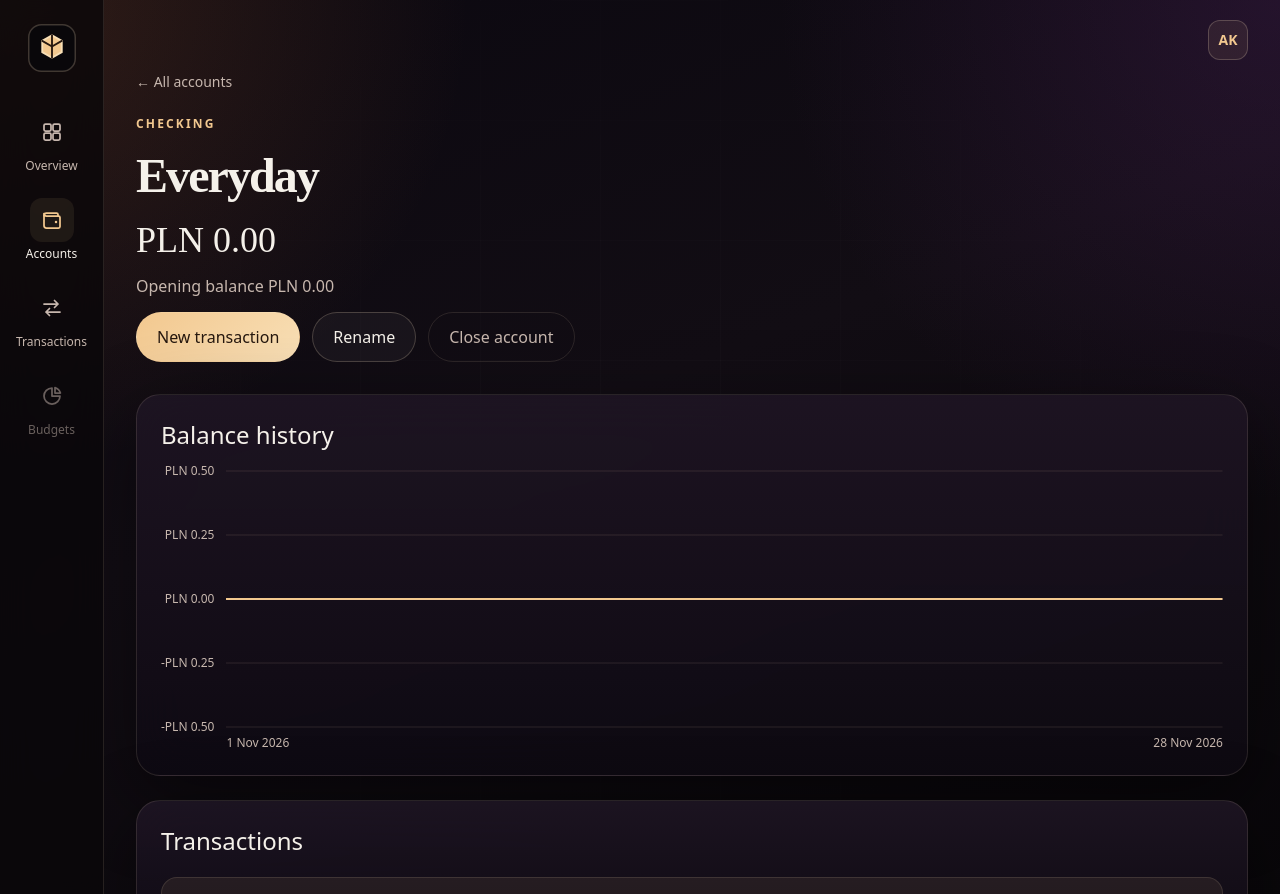
transactions of an account › explains what is wrong with the transaction before sending it
Click the button "New transaction". click: click(218, 337)
box: [136,312,300,362]
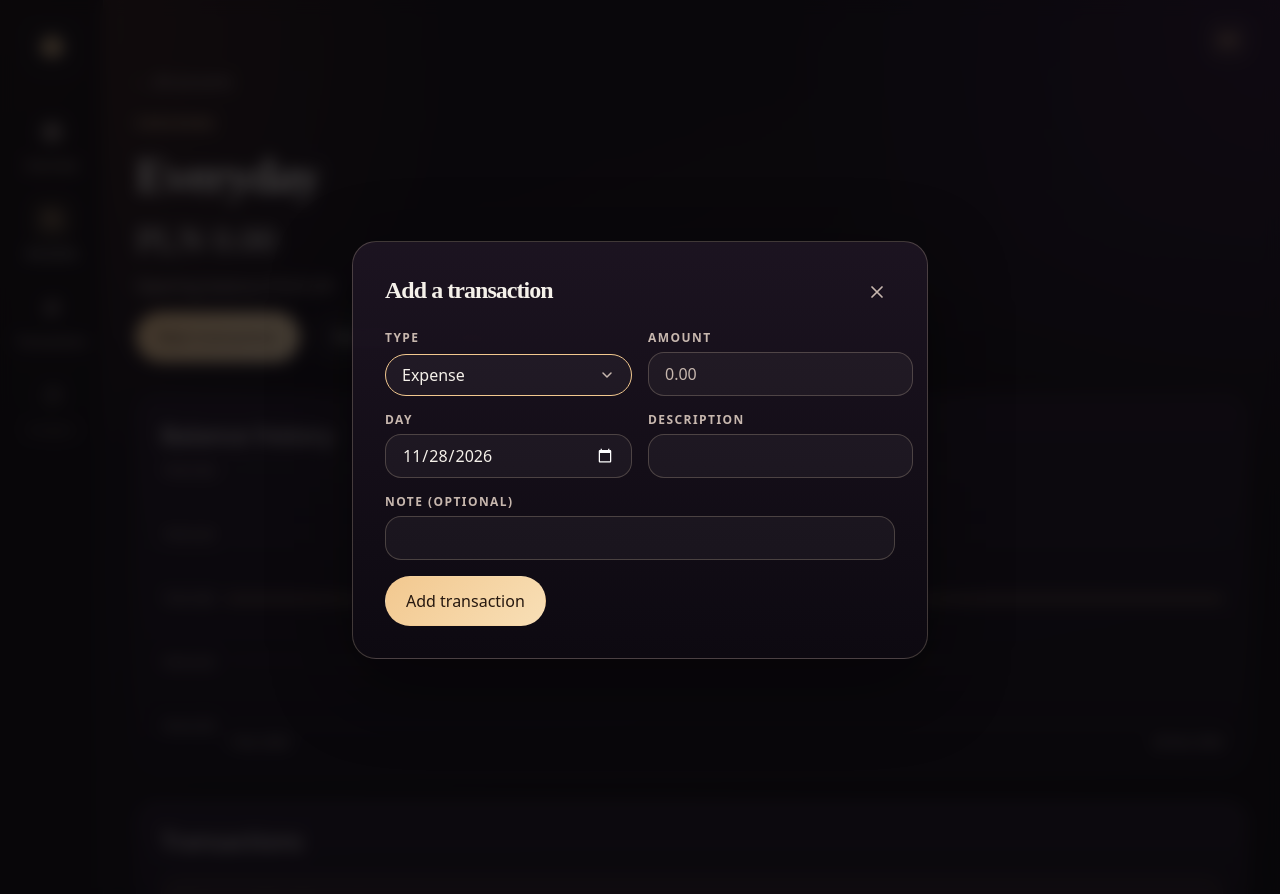
Type "0" into the field labelled "Amount". click: (780, 374)
box: [648,352,913,396]
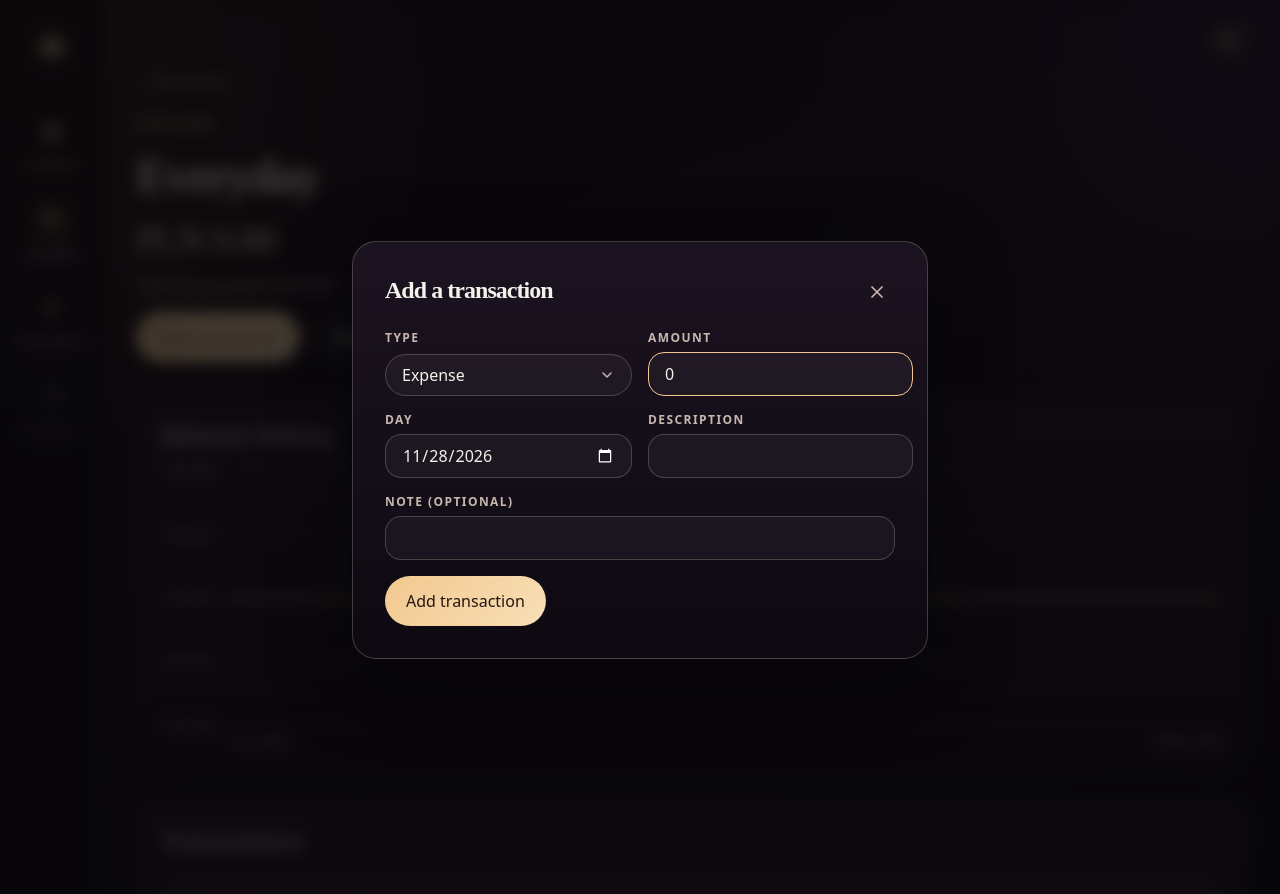
Click the button "Add transaction". click: click(465, 601)
box: [385,576,546,626]
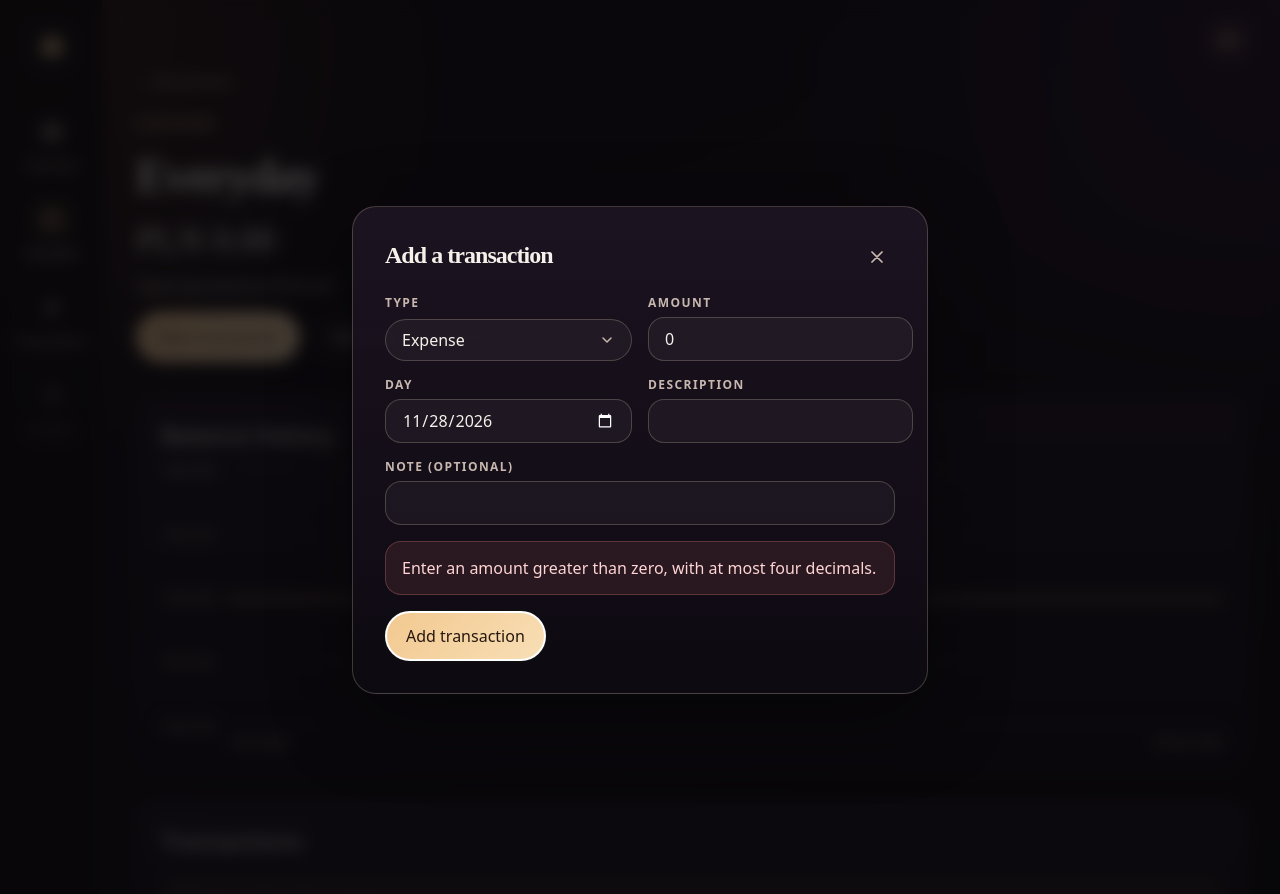
Result: the message shows "Enter an amount greater than zero" at [402,557,876,579]
